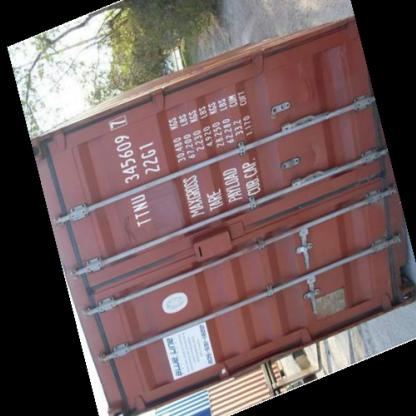Damage: (290, 56, 320, 108), (108, 209, 144, 252), (300, 140, 324, 174)
